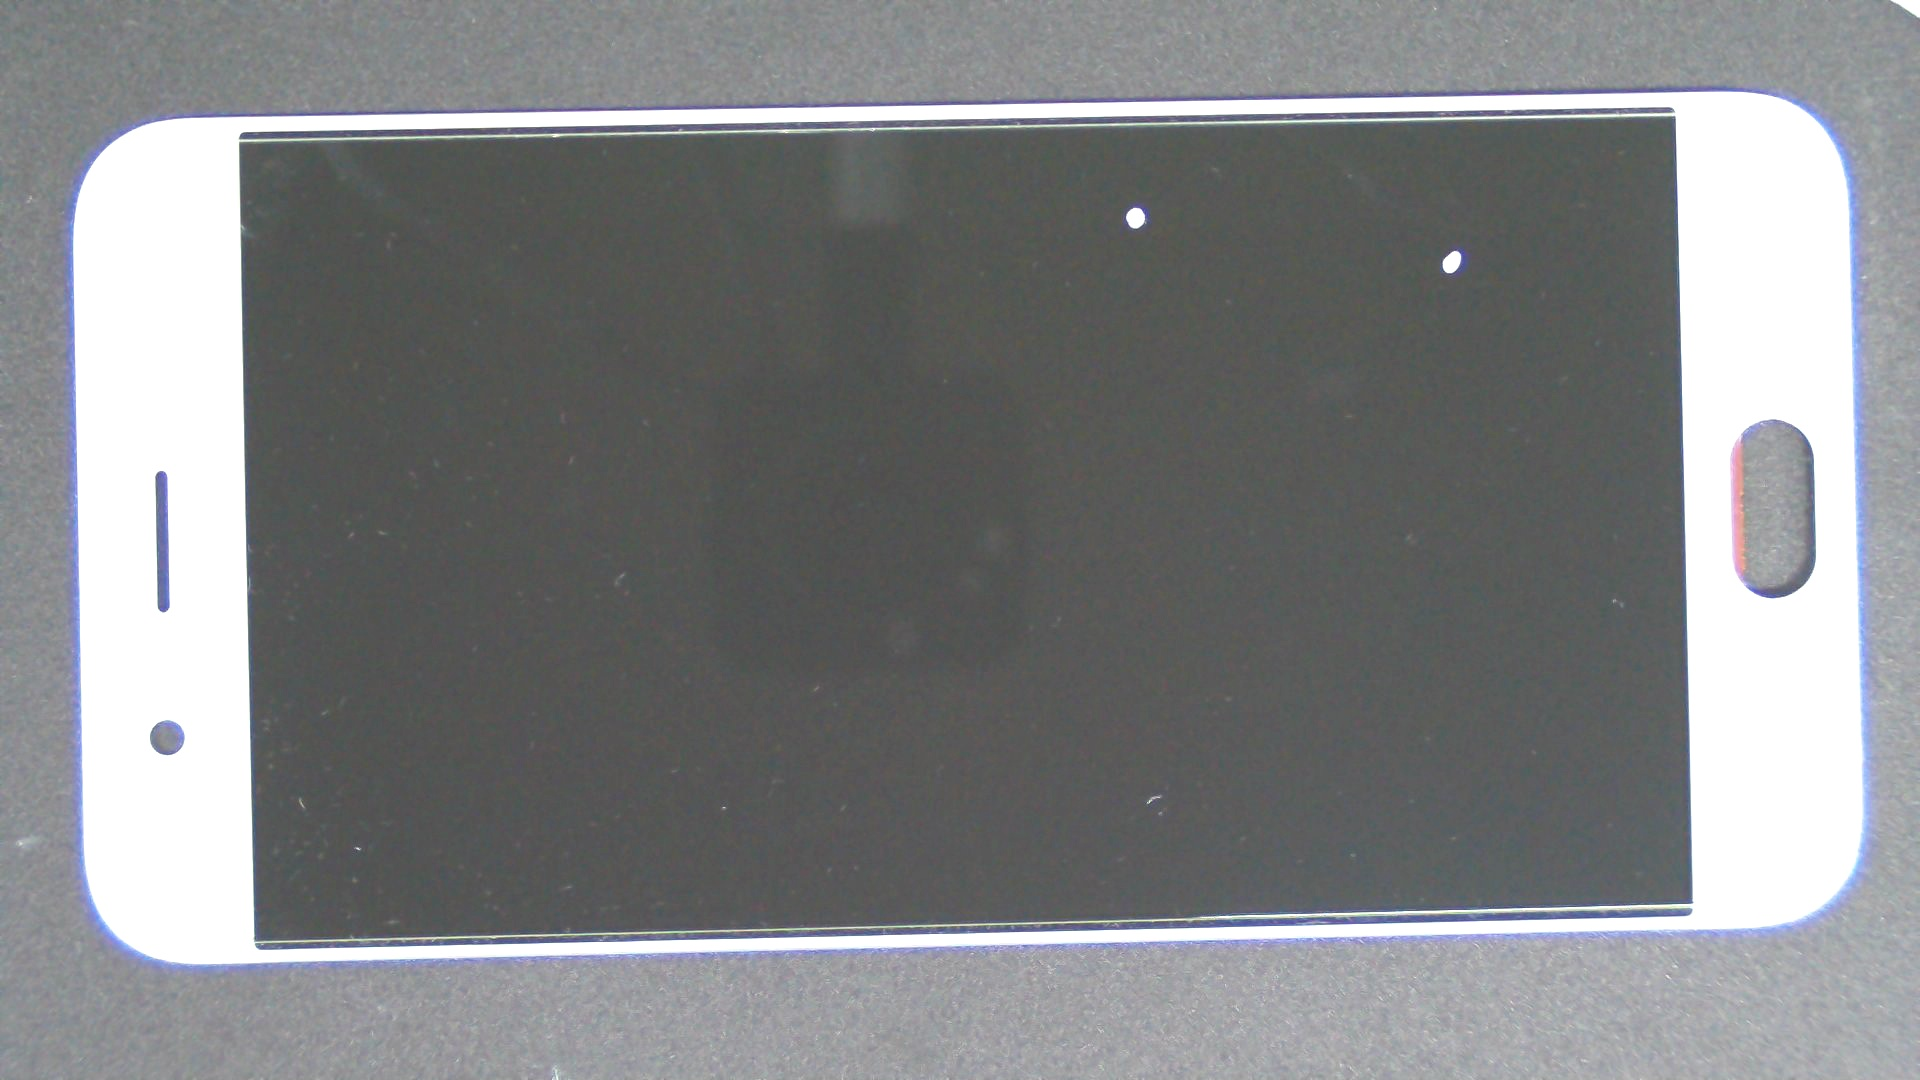oil: (728, 124, 1920, 375), (567, 103, 1701, 310)
